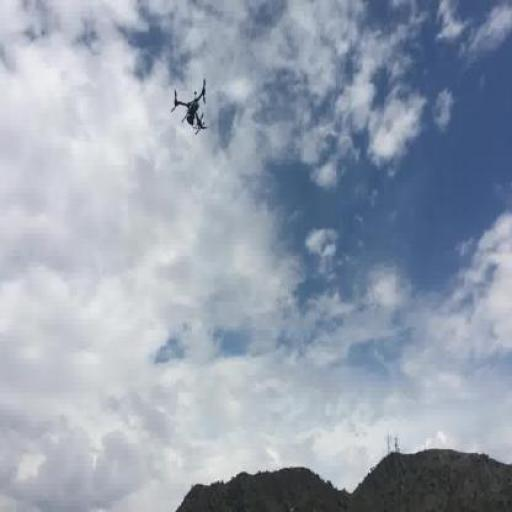drone: (172, 79, 217, 134)
